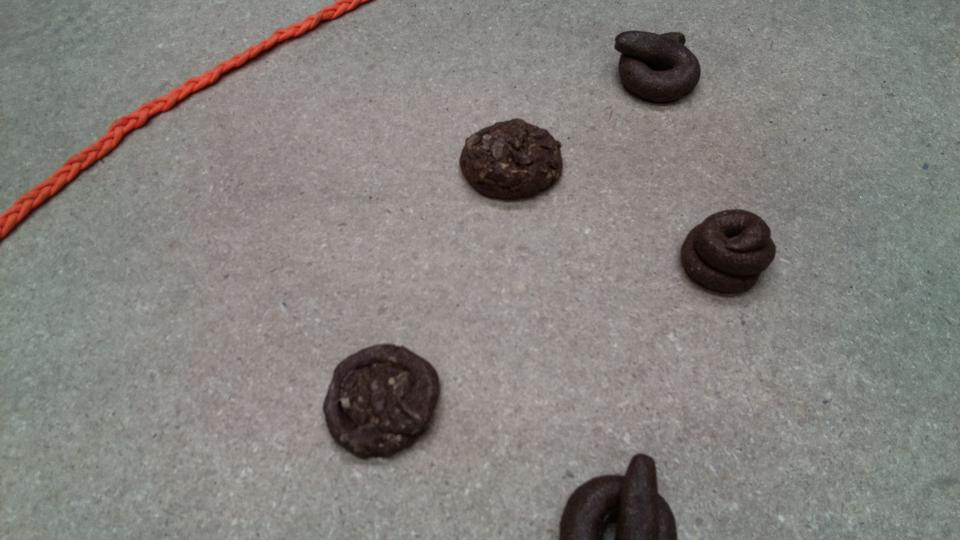poop: (322, 341, 444, 463), (556, 449, 679, 540), (457, 116, 568, 203), (678, 207, 779, 301), (613, 28, 703, 108)
rope: (1, 1, 366, 233)
